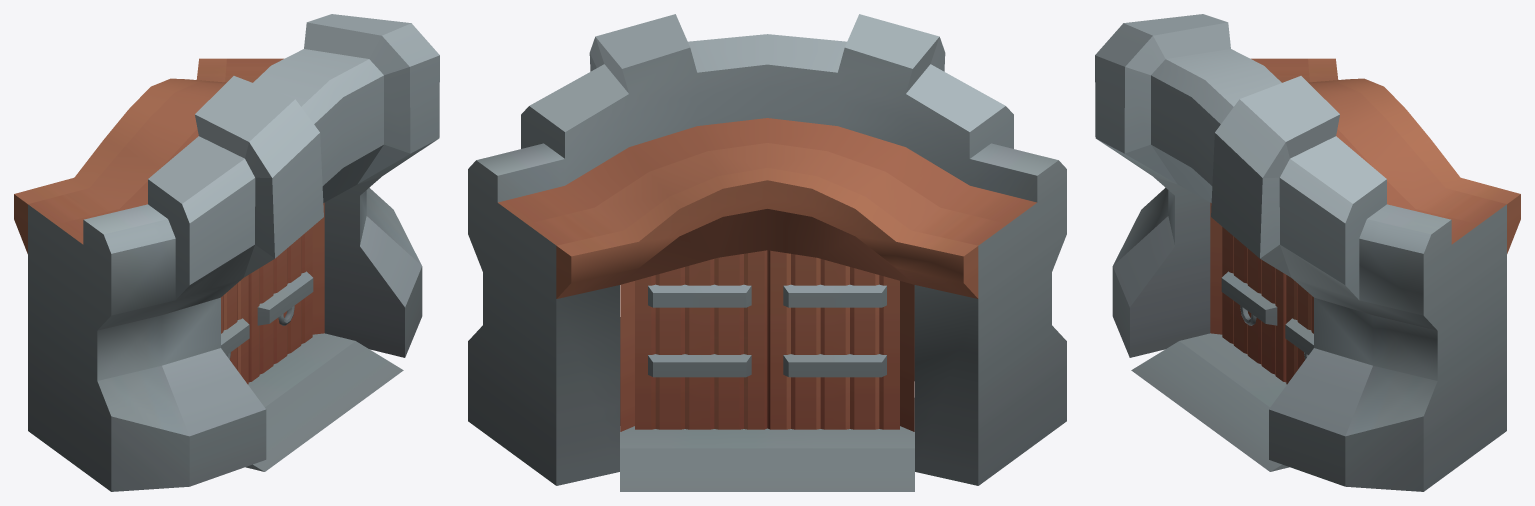
File: kay-muralha-canto-portao.gltf
3 renders of one model, left to right at view 1: azimuth 30°, elevation 25°; view 2: azimuth 150°, elevation 25°; view 3: azimuth 270°, elevation 25°, orthographic. The views are drawn at different scales.
Visible parts, largest first — view 1: wall_corner_A_gate; view 2: wall_corner_A_gate; view 3: wall_corner_A_gate.
Part boxes in pixels (x1=…): wall_corner_A_gate: x1=14, y1=14, x2=439, y2=491; wall_corner_A_gate: x1=468, y1=14, x2=1066, y2=491; wall_corner_A_gate: x1=1095, y1=14, x2=1520, y2=491.
Size of the model in its own units: 8.8 by 7.08 by 7.66.
Materials: 1 (1 with a texture image).
